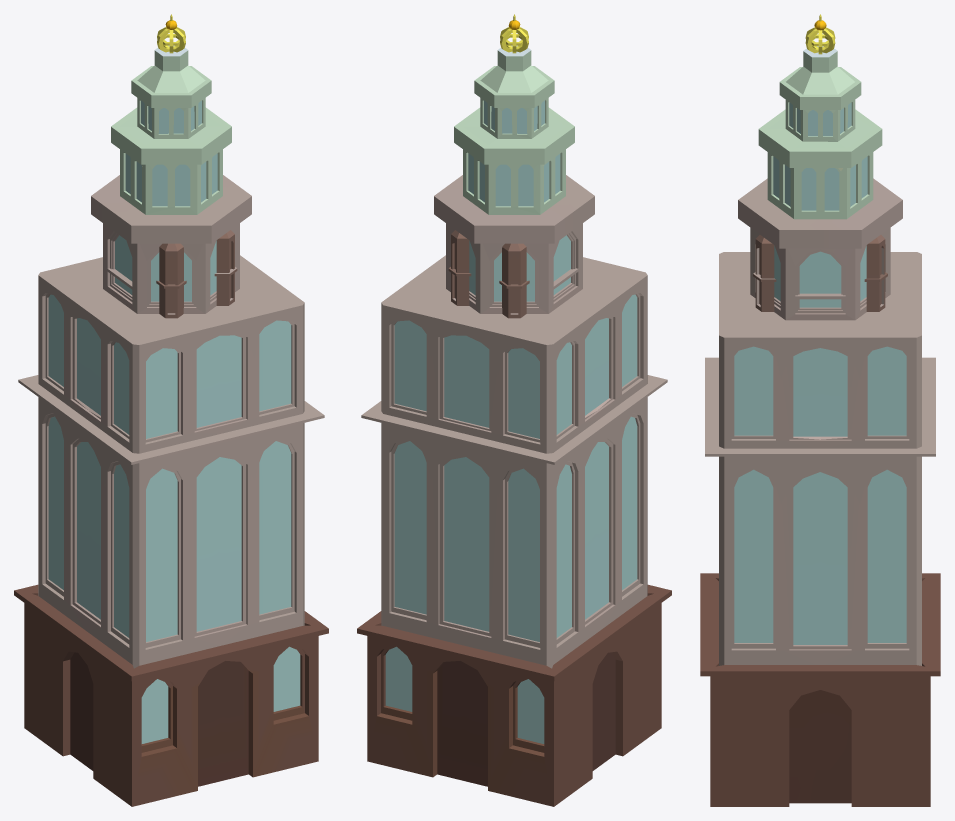
The model's file is Building2.fbx.
3 renders of one model, left to right at view 1: azimuth 30°, elevation 25°; view 2: azimuth 150°, elevation 25°; view 3: azimuth 270°, elevation 25°, orthographic. The views are drawn at different scales.
Parts seen in each view (by area): view 1: Clocktower; view 2: Clocktower; view 3: Clocktower.
Boxes of the visible parts, x1,y1,x2,y2 form: Clocktower: [14, 14, 328, 806]; Clocktower: [357, 14, 671, 806]; Clocktower: [700, 14, 940, 806].
Bounding box in the file's own units: 846 × 2998 × 875.
